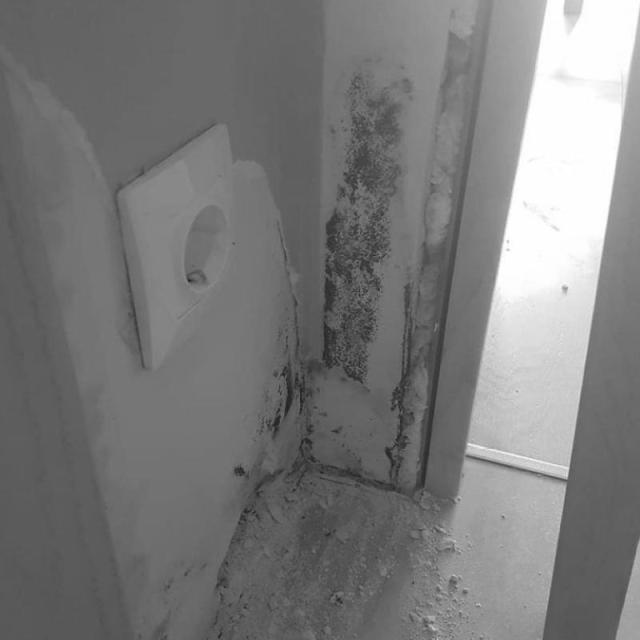stain marks: (218, 0, 526, 497)
